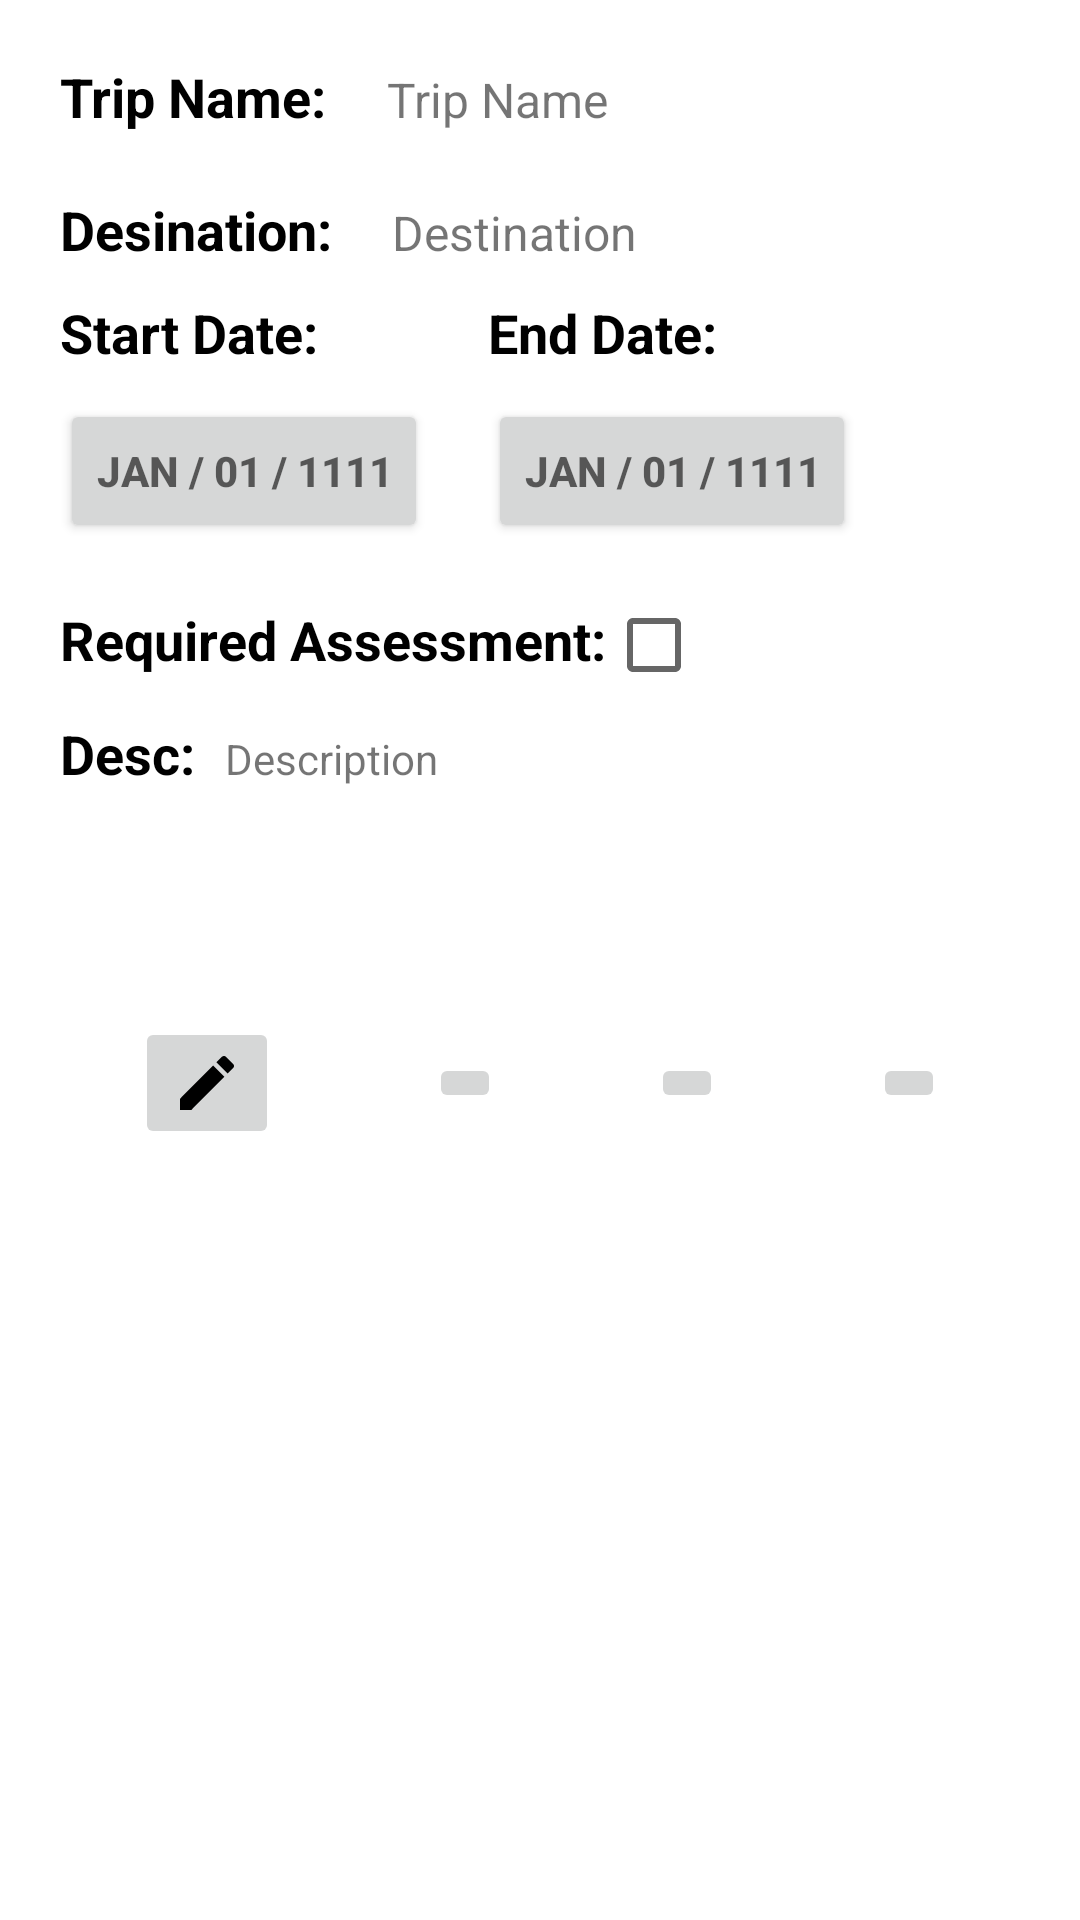

Screen size 1080×1920. Icon name, then its box in pixels as bbox=(x1, y1, x2, y2):
edit: bbox=(147, 1035, 267, 1131)
